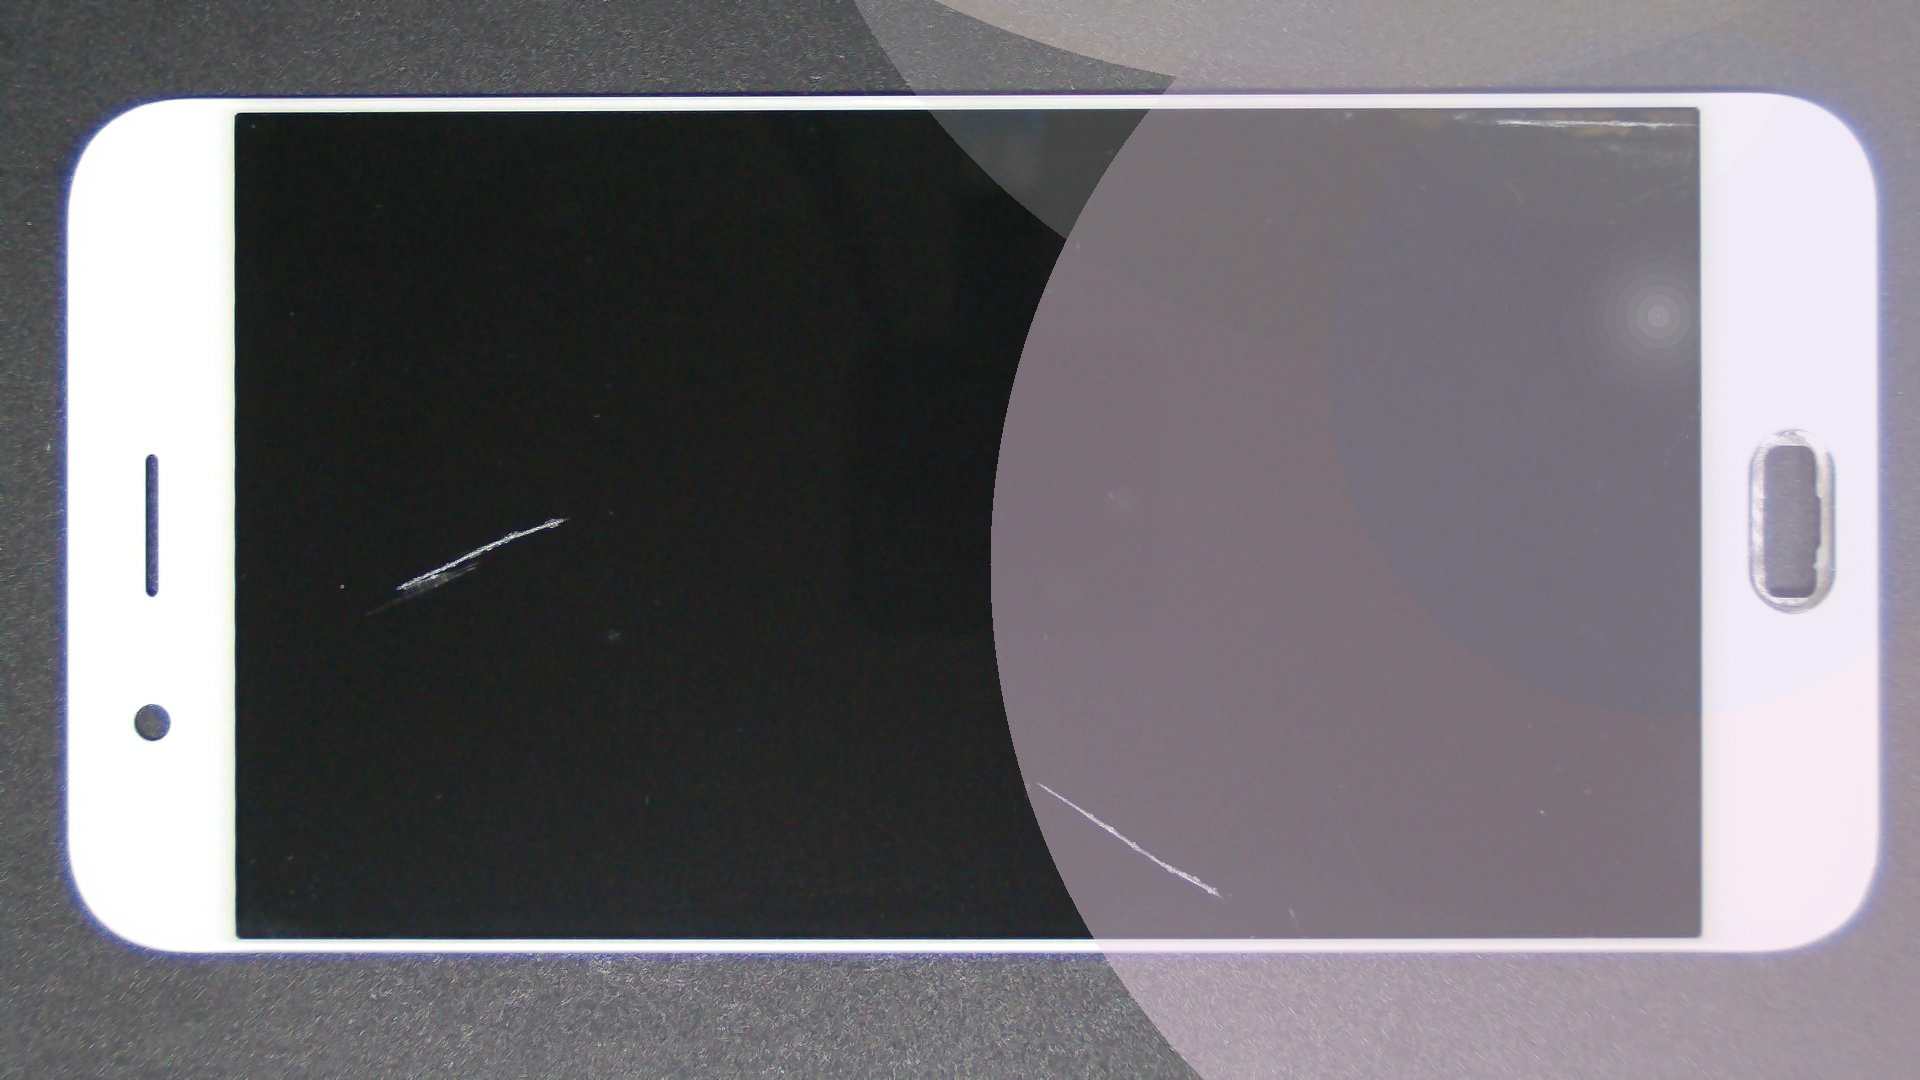oil: (520, 390, 1555, 1080), (278, 258, 832, 775), (748, 58, 1920, 178)
